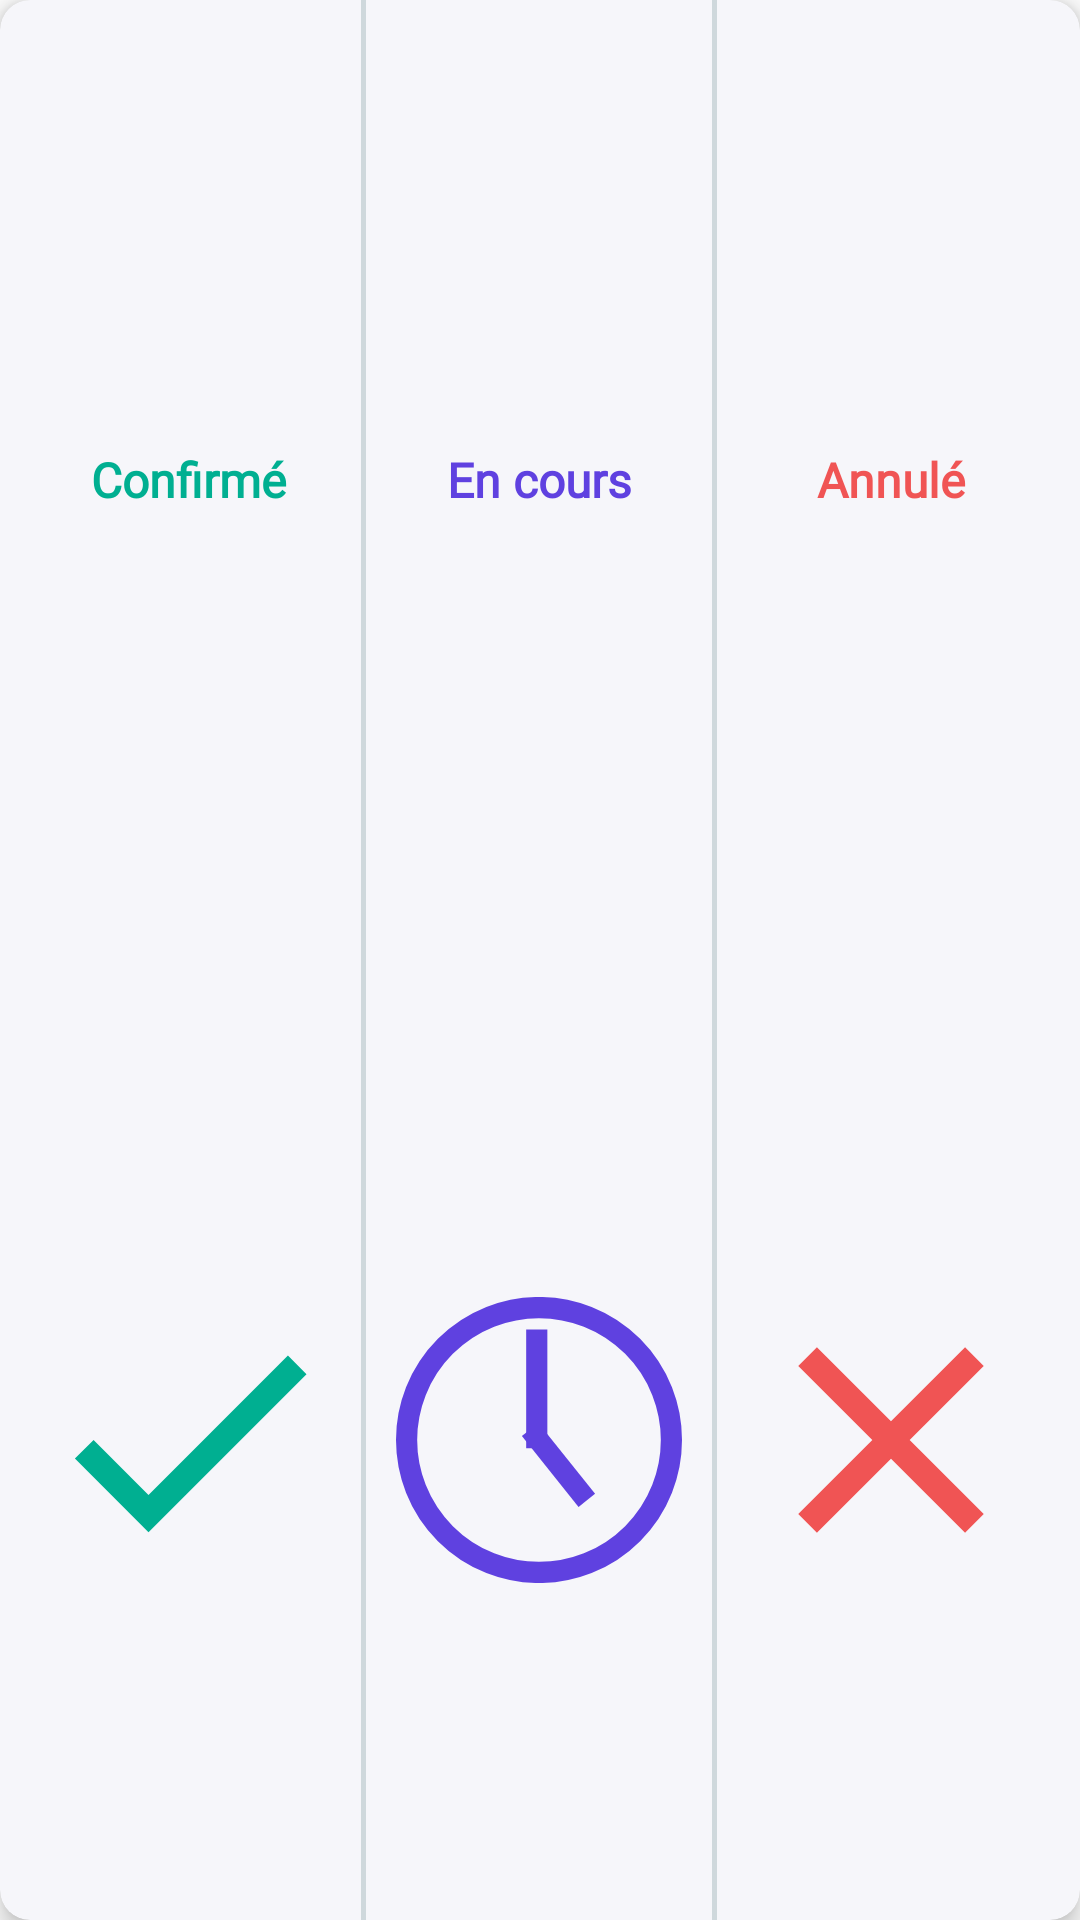

Named icons in this screenshot (1080px x 1920px) and their centers, [x,y]:
check: [191,1443]
clock or check: [539,1440]
close: [891,1440]
